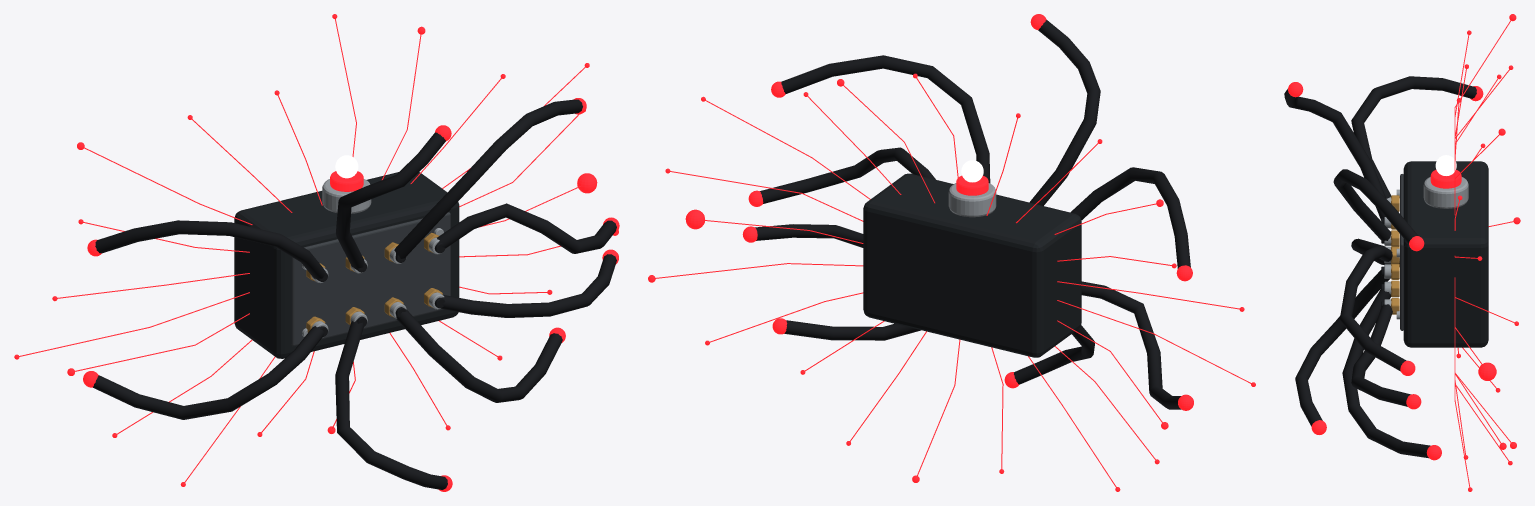
The model's file is distranet-hydraulic-network.glb.
The picture shows the model from 3 angles, left to right: view 1: azimuth 30°, elevation 25°; view 2: azimuth 150°, elevation 25°; view 3: azimuth 270°, elevation 25°; orthographic projection. The views are drawn at different scales.
Parts seen in each view (by area): view 1: Central hydraulic manifold, Machined face plate, hydraulic_hose_04, hydraulic_hose_00, hydraulic_hose_02, hydraulic_hose_05, hydraulic_hose_06, hydraulic_hose_03, hydraulic_hose_07, hydraulic_hose_01, pressure_stack_base; view 2: Central hydraulic manifold, hydraulic_hose_02, hydraulic_hose_01, hydraulic_hose_00, hydraulic_hose_03, hydraulic_hose_04, hydraulic_hose_06, hydraulic_hose_07, hydraulic_hose_05, pressure_stack_base; view 3: Central hydraulic manifold, hydraulic_hose_06, hydraulic_hose_02, hydraulic_hose_00, hydraulic_hose_03, hydraulic_hose_05, hydraulic_hose_01, hydraulic_hose_07, pressure_stack_base, Machined face plate, pressure_stack_red, pressure_status_core (+2 smaller).
Part boxes in pixels (box(x1,y1,x2,y2)): Central hydraulic manifold: box(234, 172, 459, 358); Machined face plate: box(291, 212, 450, 346); hydraulic_hose_04: box(93, 326, 324, 419); hydraulic_hose_00: box(95, 220, 325, 280); hydraulic_hose_02: box(394, 99, 582, 258); hydraulic_hose_05: box(335, 319, 447, 489); hydraulic_hose_06: box(396, 308, 562, 402); hydraulic_hose_03: box(437, 203, 616, 253); hydraulic_hose_07: box(441, 254, 616, 317); hydraulic_hose_01: box(336, 132, 445, 269); pressure_stack_base: box(322, 179, 371, 213); Central hydraulic manifold: box(863, 173, 1081, 357); hydraulic_hose_02: box(781, 55, 990, 183); hydraulic_hose_01: box(1029, 20, 1100, 205); hydraulic_hose_00: box(1070, 167, 1190, 268); hydraulic_hose_03: box(760, 147, 935, 203); hydraulic_hose_04: box(1081, 281, 1181, 409); hydraulic_hose_06: box(784, 320, 920, 340); hydraulic_hose_07: box(755, 224, 863, 247); hydraulic_hose_05: box(1014, 325, 1094, 384); pressure_stack_base: box(948, 183, 996, 217); Central hydraulic manifold: box(1403, 161, 1488, 347); hydraulic_hose_06: box(1342, 287, 1430, 458); hydraulic_hose_02: box(1333, 169, 1418, 243); hydraulic_hose_00: box(1351, 76, 1476, 198); hydraulic_hose_03: box(1339, 245, 1406, 371); hydraulic_hose_05: box(1295, 270, 1389, 426); hydraulic_hose_01: box(1284, 89, 1385, 220); hydraulic_hose_07: box(1351, 303, 1410, 406); pressure_stack_base: box(1423, 177, 1468, 208); Machined face plate: box(1400, 174, 1403, 330); pressure_stack_red: box(1430, 169, 1461, 188); pressure_status_core: box(1435, 155, 1456, 175).
Bounding box in the file's own units: 10.99 × 7.21 × 4.
